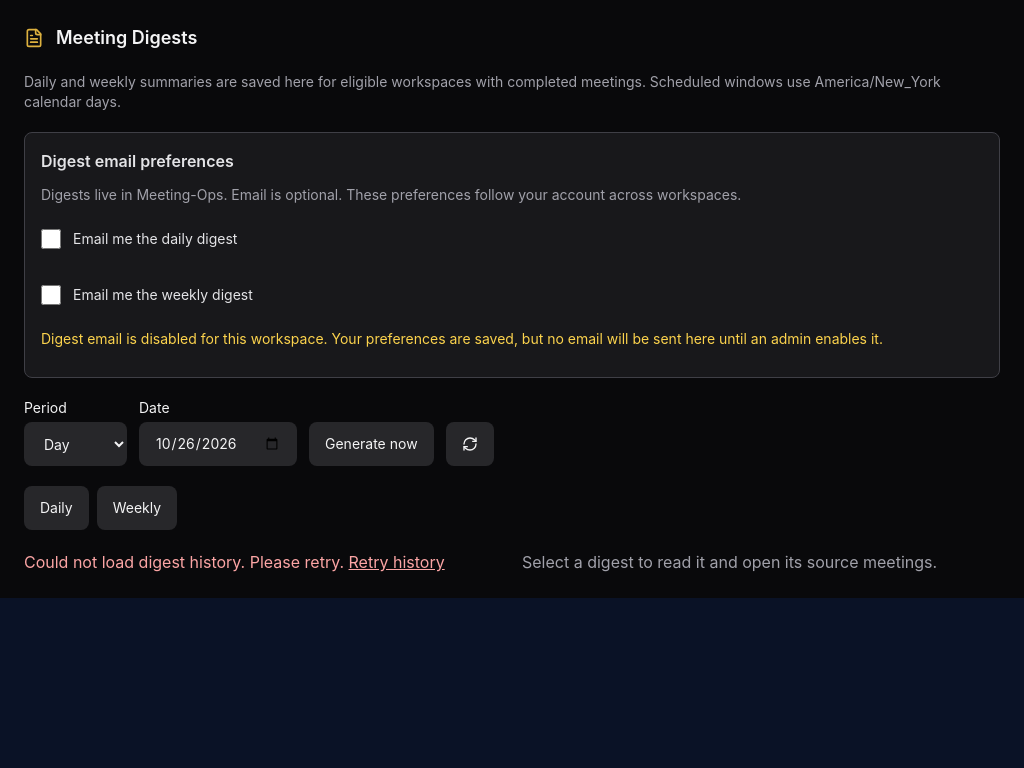
Test: Digests › explains the org email kill-switch and shows history errors with retry
The width and height of the screenshot is (1024, 768).
Expected: the heading "Meeting Digests" is shown, 24,27 -> 197,48
Expected: the text "Digest email is disabled for this workspace" is shown, 41,330 -> 883,347
Click the button "Retry history".
click(397, 562)  # box 348,550 -> 445,574
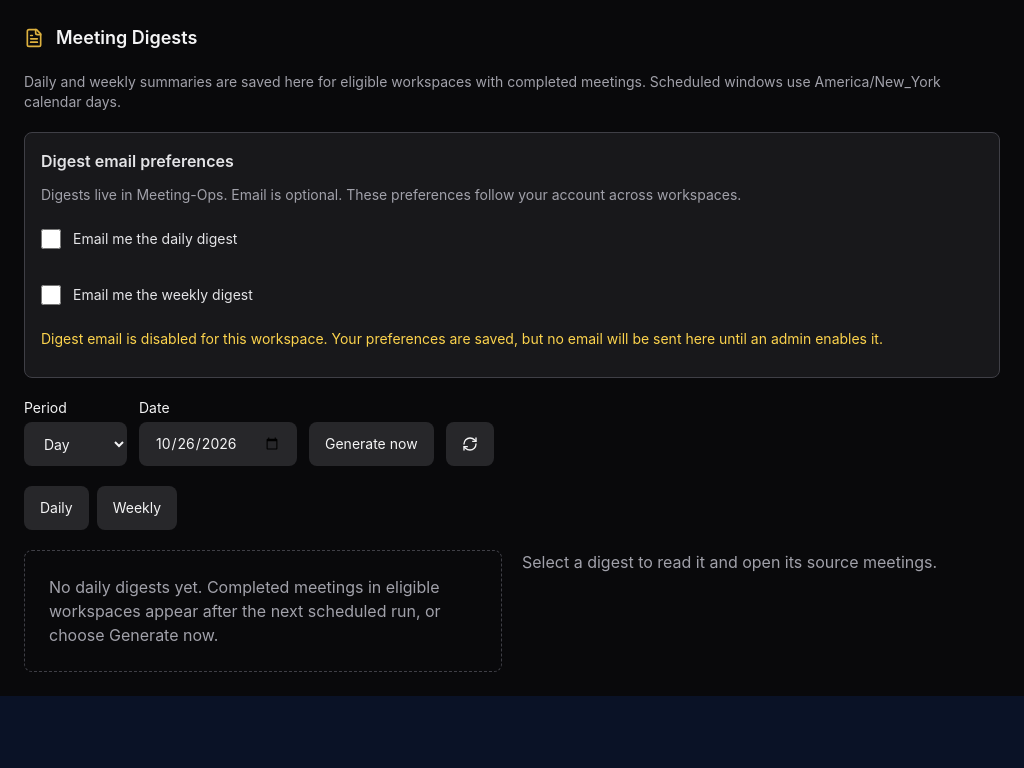
Result: the text "No daily digests yet" is shown at 24,550 -> 502,672
